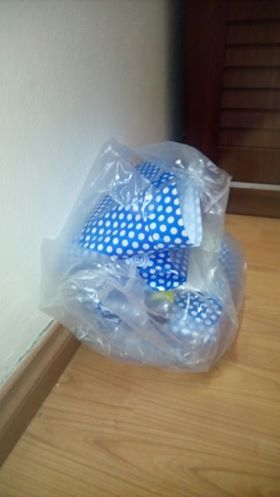plastic bag: (31, 133, 250, 378)
